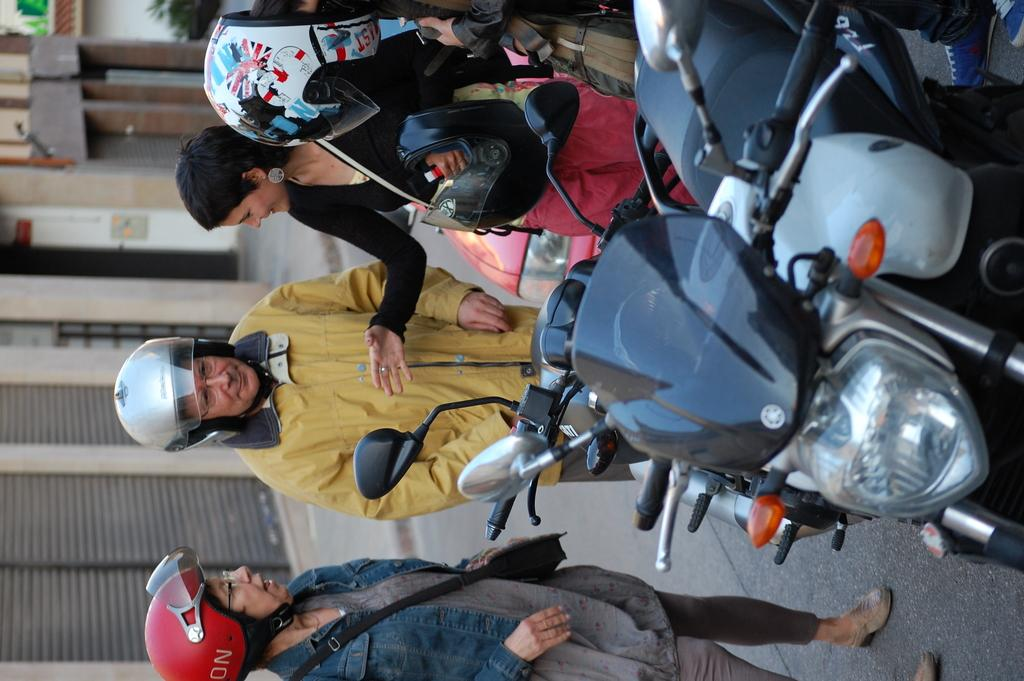helmet: (203, 6, 381, 147), (393, 98, 553, 232), (144, 546, 286, 681), (113, 336, 257, 453)
nohelmet: (173, 123, 300, 232)
